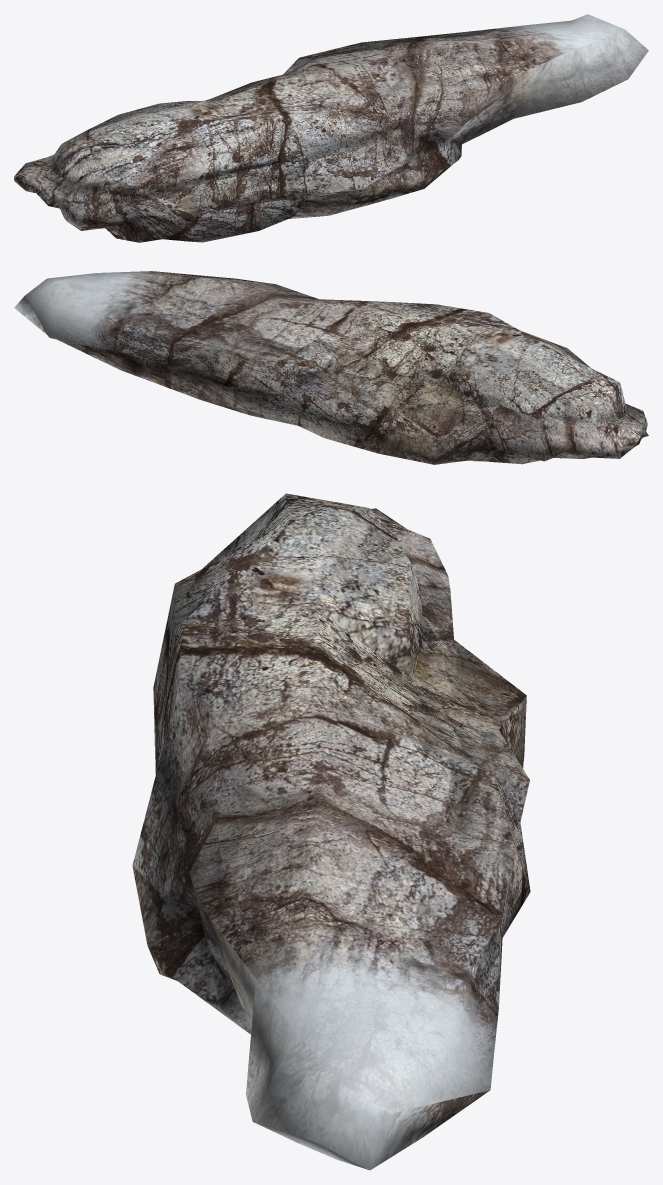
File: rock_02_01.FBX
3 views of the same model, one above another, from view 1: azimuth 30°, elevation 25°; view 2: azimuth 150°, elevation 25°; view 3: azimuth 270°, elevation 25° (orthographic). The views are drawn at different scales.
Visible parts, largest first — view 1: rock_02_01; view 2: rock_02_01; view 3: rock_02_01.
Part boxes in pixels (box(x1,y1,x2,y2)): rock_02_01: box(14, 14, 648, 242); rock_02_01: box(14, 271, 648, 464); rock_02_01: box(132, 493, 530, 1170).
Size of the model in its own units: 54400 by 10251 by 14938.
